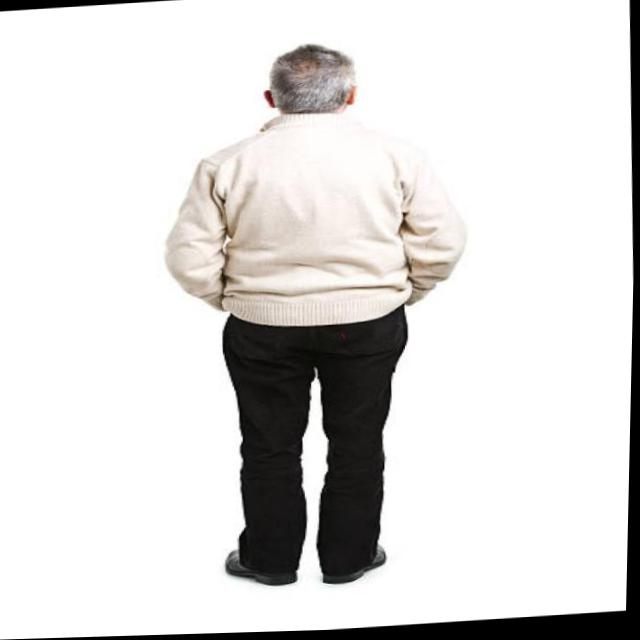no helmet: (241, 17, 402, 147)
